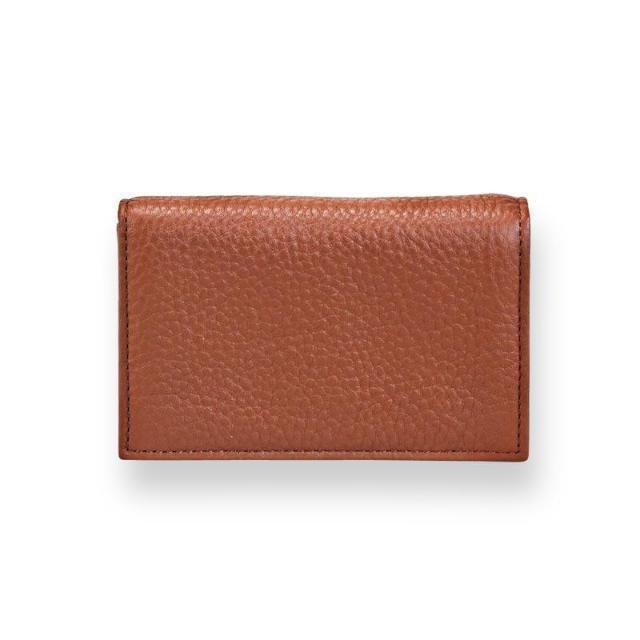wallet: (113, 190, 534, 470)
